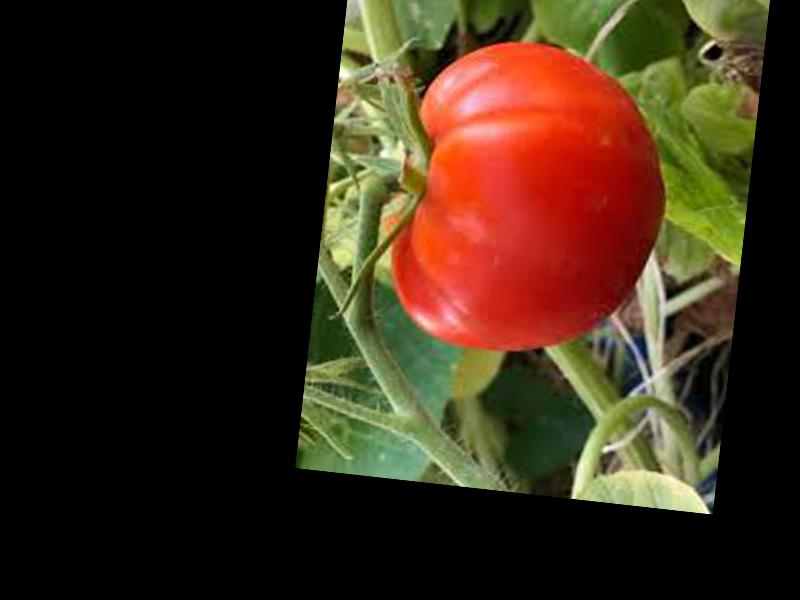Tomato: (382, 29, 677, 370)
